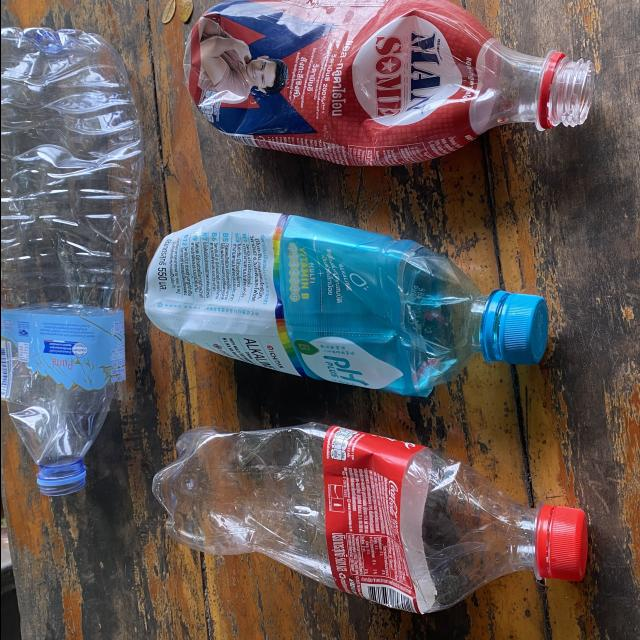plastik: (151, 424, 586, 613), (144, 210, 546, 396), (183, 0, 594, 167), (0, 27, 142, 496)
